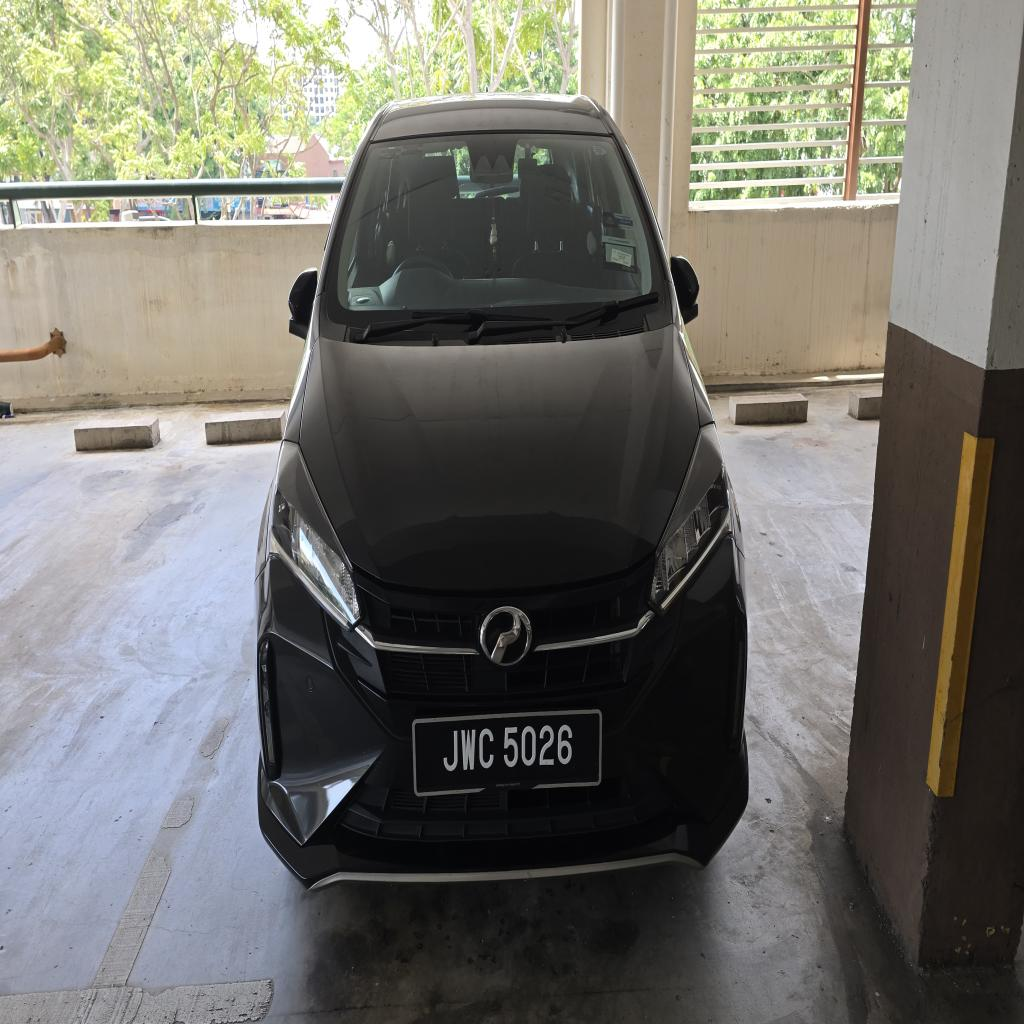car: (256, 96, 747, 885)
car plate: (413, 710, 602, 796)
